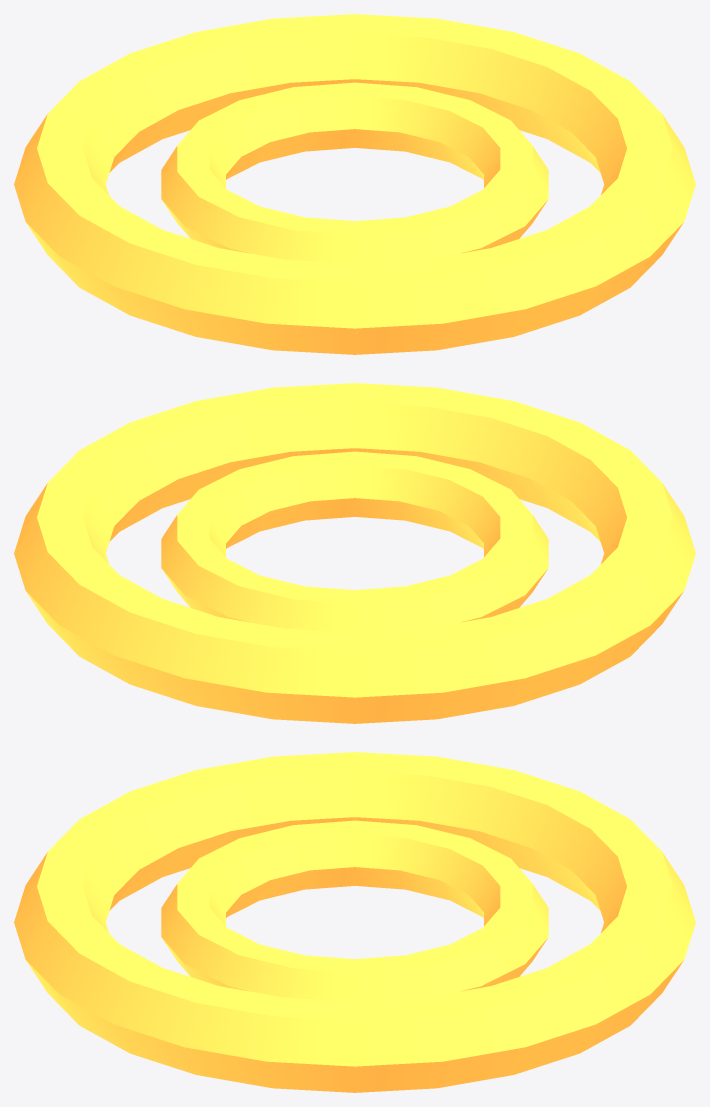
Rendered from kr_burner.glb.
3 renders of one model, top to bottom at view 1: azimuth 30°, elevation 25°; view 2: azimuth 150°, elevation 25°; view 3: azimuth 270°, elevation 25°, orthographic.
Parts seen in each view (by area): view 1: kr_burner_burner; view 2: kr_burner_burner; view 3: kr_burner_burner.
Part boxes in pixels (left/top/right/bottom): kr_burner_burner: left=14, top=14, right=695, bottom=354; kr_burner_burner: left=14, top=383, right=695, bottom=723; kr_burner_burner: left=14, top=752, right=695, bottom=1092.
Bounding box in the file's own units: 0.208 × 0.0242 × 0.208.
